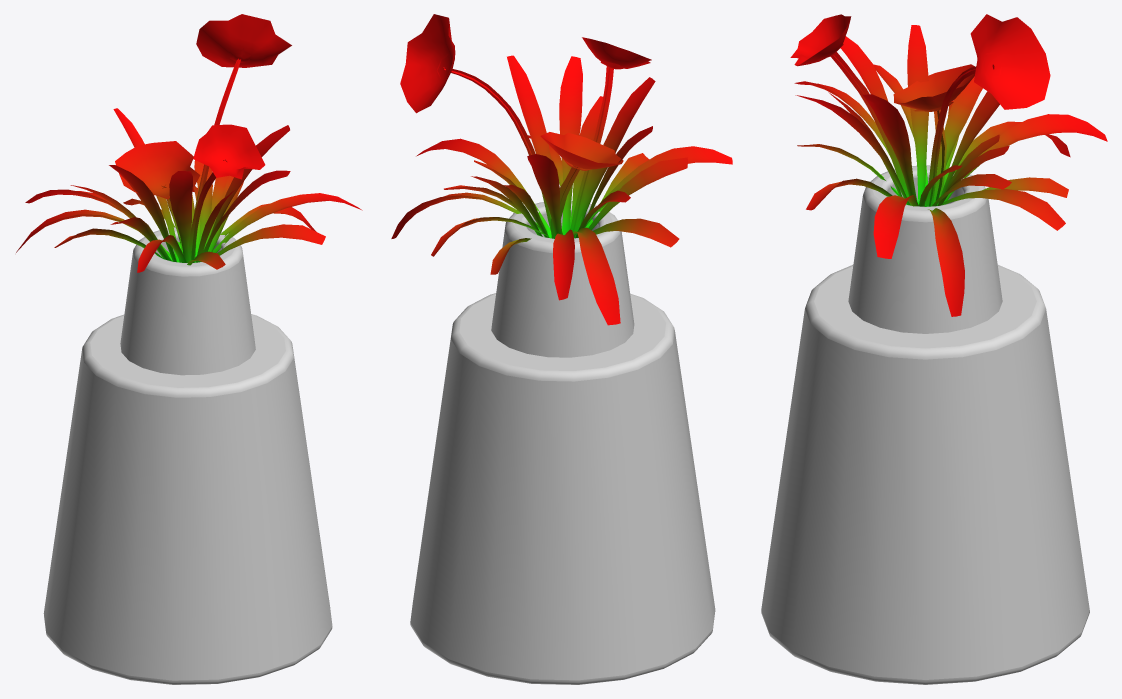
Rendered from Flower-Pot-large.fbx.
3 views of the same model, side by side, from view 1: azimuth 30°, elevation 25°; view 2: azimuth 150°, elevation 25°; view 3: azimuth 270°, elevation 25° (orthographic). The views are drawn at different scales.
Parts seen in each view (by area): view 1: Flower-Pot-Large, Flower-Large; view 2: Flower-Pot-Large, Flower-Large; view 3: Flower-Pot-Large, Flower-Large.
Part boxes in pixels (x1,y1,x2,y2): Flower-Pot-Large: [43, 227, 332, 684]; Flower-Large: [16, 14, 362, 272]; Flower-Pot-Large: [410, 200, 715, 684]; Flower-Large: [391, 14, 732, 325]; Flower-Pot-Large: [761, 165, 1089, 684]; Flower-Large: [790, 14, 1107, 316].
Bounding box in the file's own units: 35.29 × 68.88 × 33.37.
